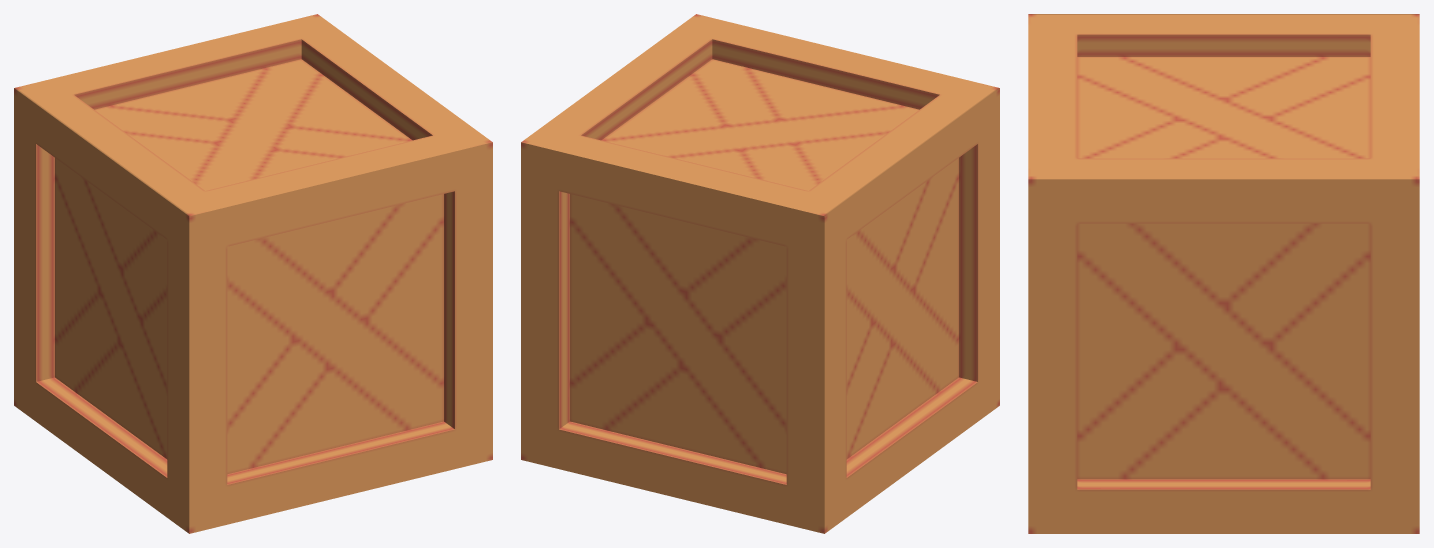
Rendered from block.glb.
The picture shows the model from 3 angles, left to right: view 1: azimuth 30°, elevation 25°; view 2: azimuth 150°, elevation 25°; view 3: azimuth 270°, elevation 25°; orthographic projection. The views are drawn at different scales.
Parts seen in each view (by area): view 1: Cube; view 2: Cube; view 3: Cube.
Part boxes in pixels (box(x1,y1,x2,y2)): Cube: box(14, 14, 492, 533); Cube: box(521, 14, 999, 533); Cube: box(1028, 14, 1419, 533).
Size of the model in its own units: 64 by 64 by 64.
Materials: 1 (1 with a texture image).
